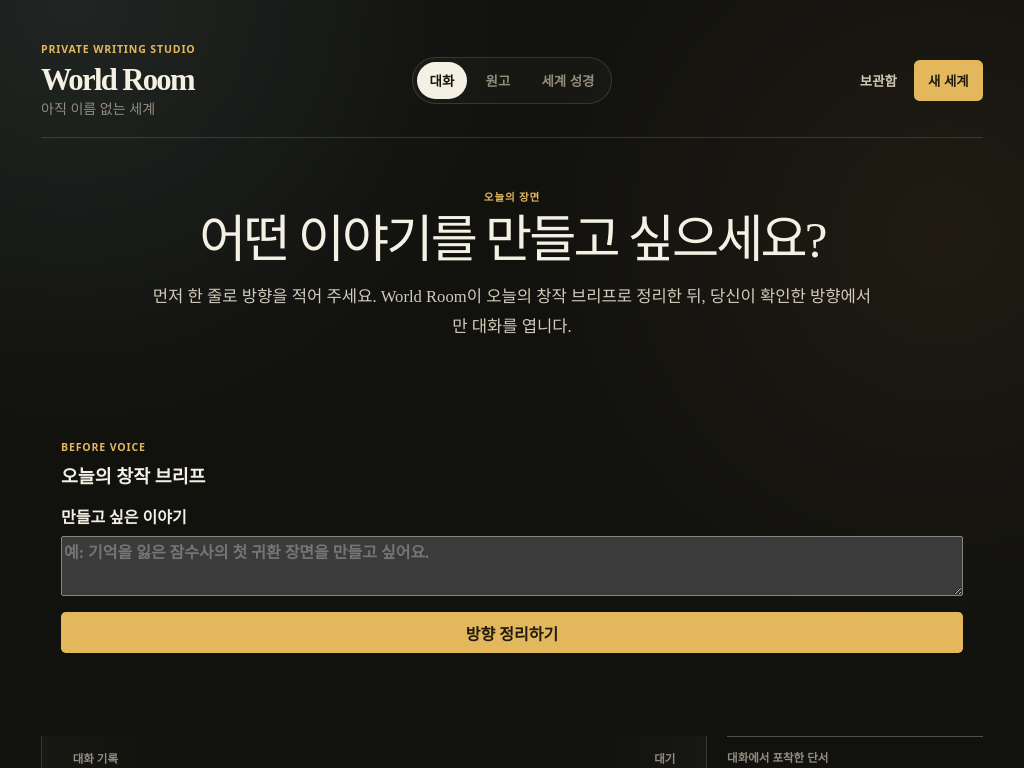
Test case: World Room 앱 › 원고와 세계 성경 모드에서 각각의 작업 맥락을 연다
Click the button "원고": coordinates (498, 80) [473,62,523,99]
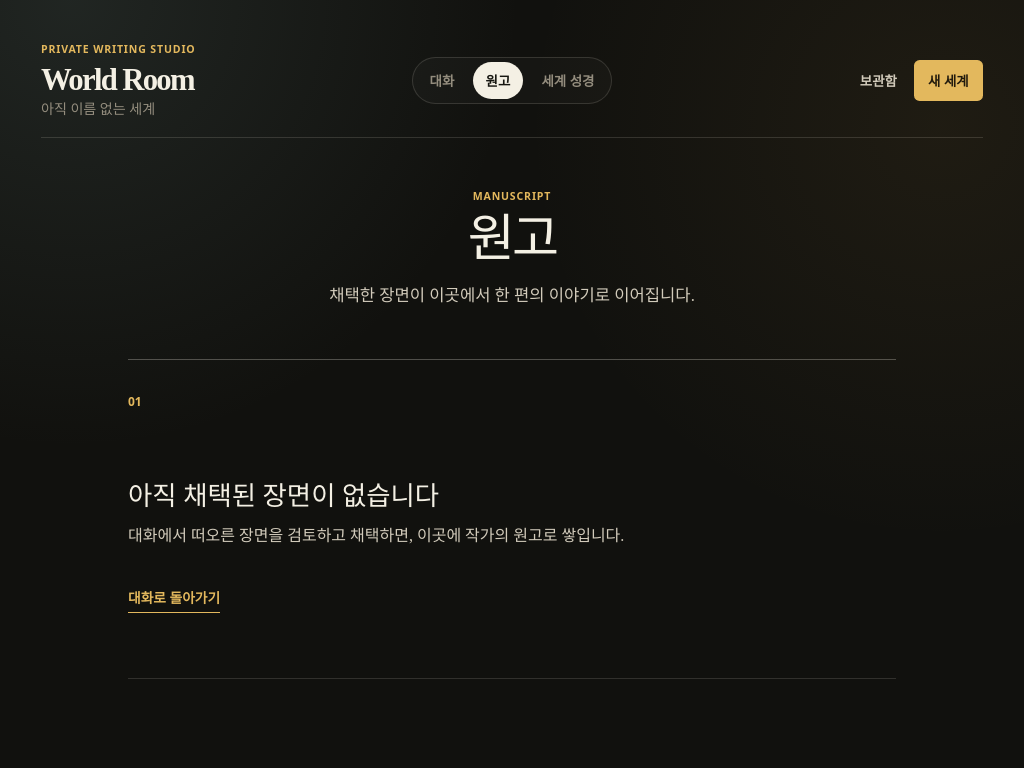
Result: the heading "원고" is shown at [468,210,556,267]
Result: the text "채택한 장면이 이곳에서 한 편의 이야기로 이어집니다." is shown at [329,286,695,305]
Click the button "세계 성경": coordinates (568, 80) [529,62,607,99]
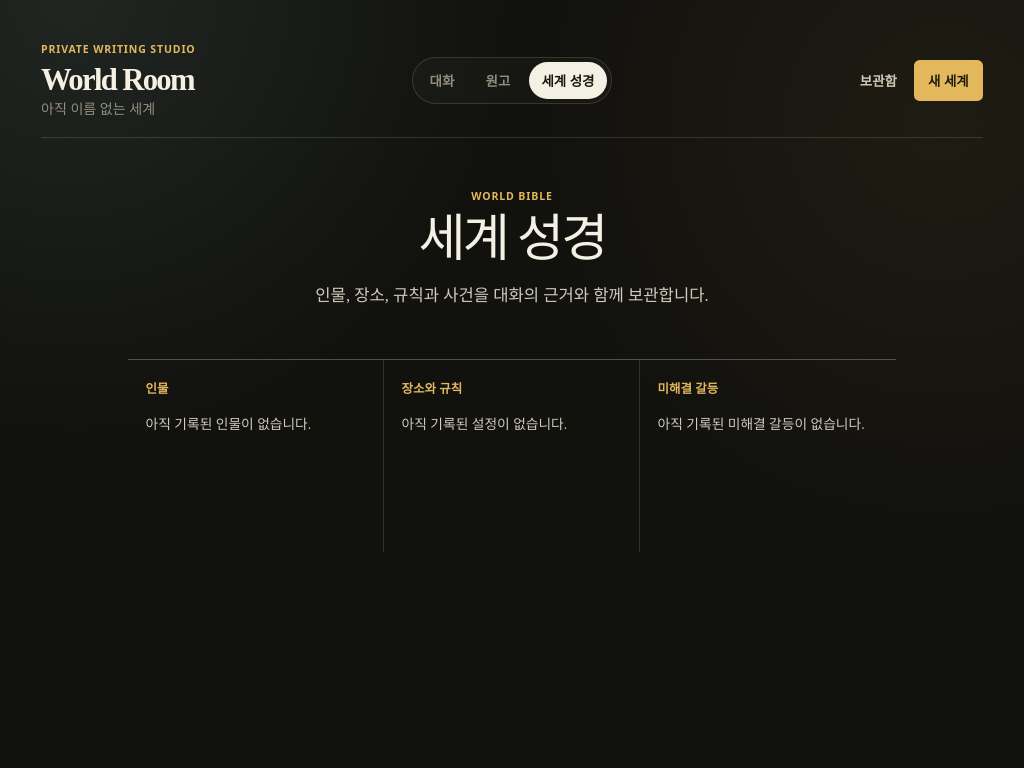
Result: the heading "세계 성경" is shown at [418,210,606,267]
Result: the text "인물, 장소, 규칙과 사건을 대화의 근거와 함께 보관합니다." is shown at [315,286,709,305]
